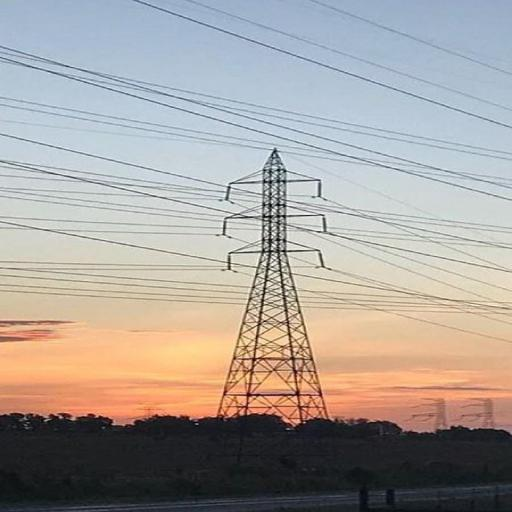ss_3: (214, 145, 341, 418)
